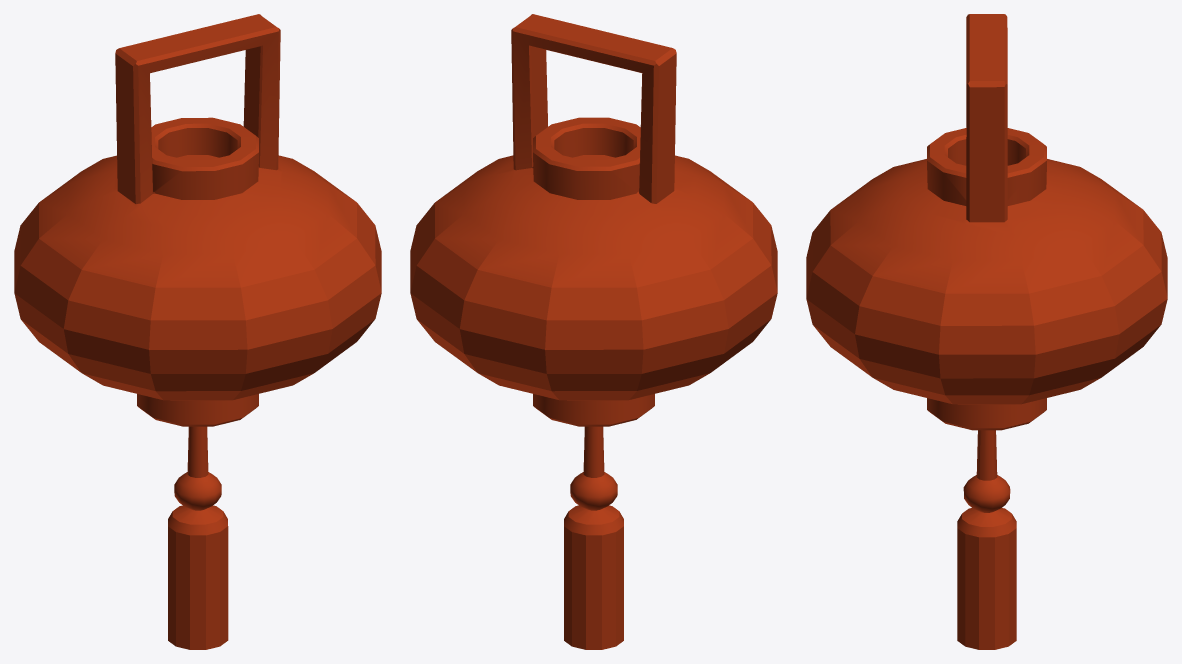
File: model_RedLamp.fbx
3 renders of one model, left to right at view 1: azimuth 30°, elevation 25°; view 2: azimuth 150°, elevation 25°; view 3: azimuth 270°, elevation 25°, orthographic.
Visible parts, largest first — view 1: pasted__pSphere19; view 2: pasted__pSphere19; view 3: pasted__pSphere19.
Part boxes in pixels (x1,y1,x2,y2): pasted__pSphere19: (14, 14, 381, 649); pasted__pSphere19: (410, 14, 777, 649); pasted__pSphere19: (806, 14, 1167, 649).
Size of the model in its own units: 57.98 by 104 by 57.98.
